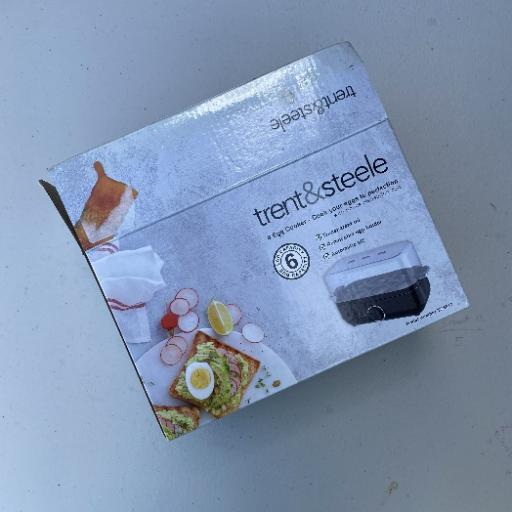Cardboard: (38, 40, 472, 442)
